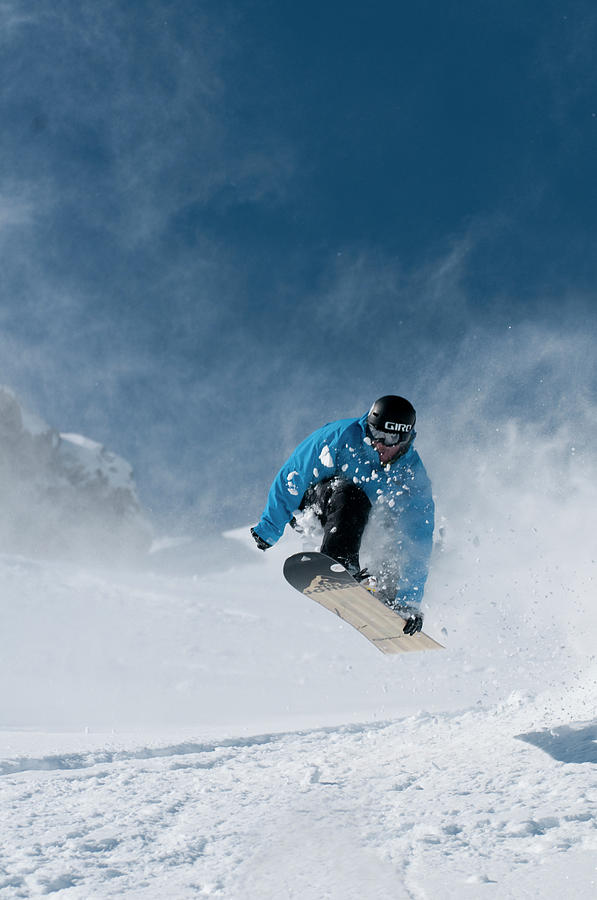snowboarder: (247, 394, 460, 653)
